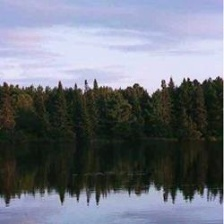neutral: (2, 1, 224, 212)
